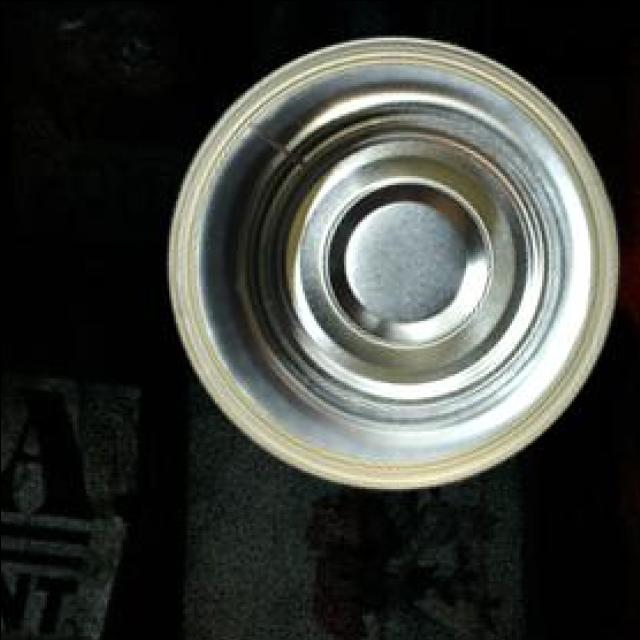logam: (165, 33, 614, 485)
